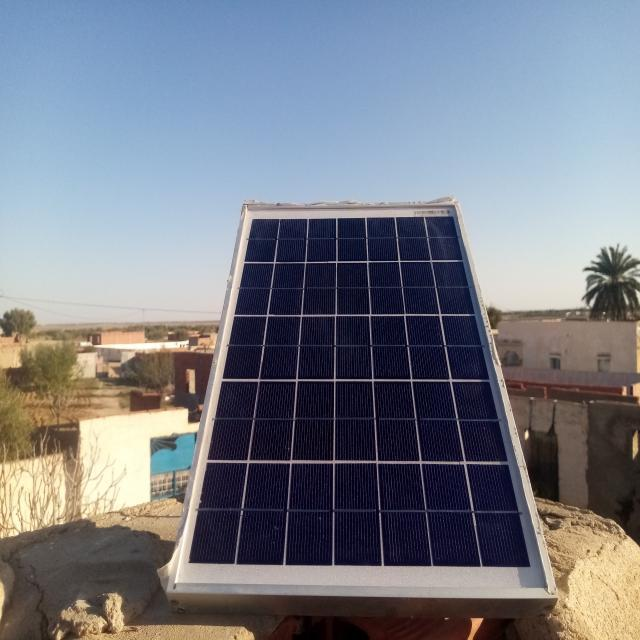no faulty: (172, 197, 557, 595)
